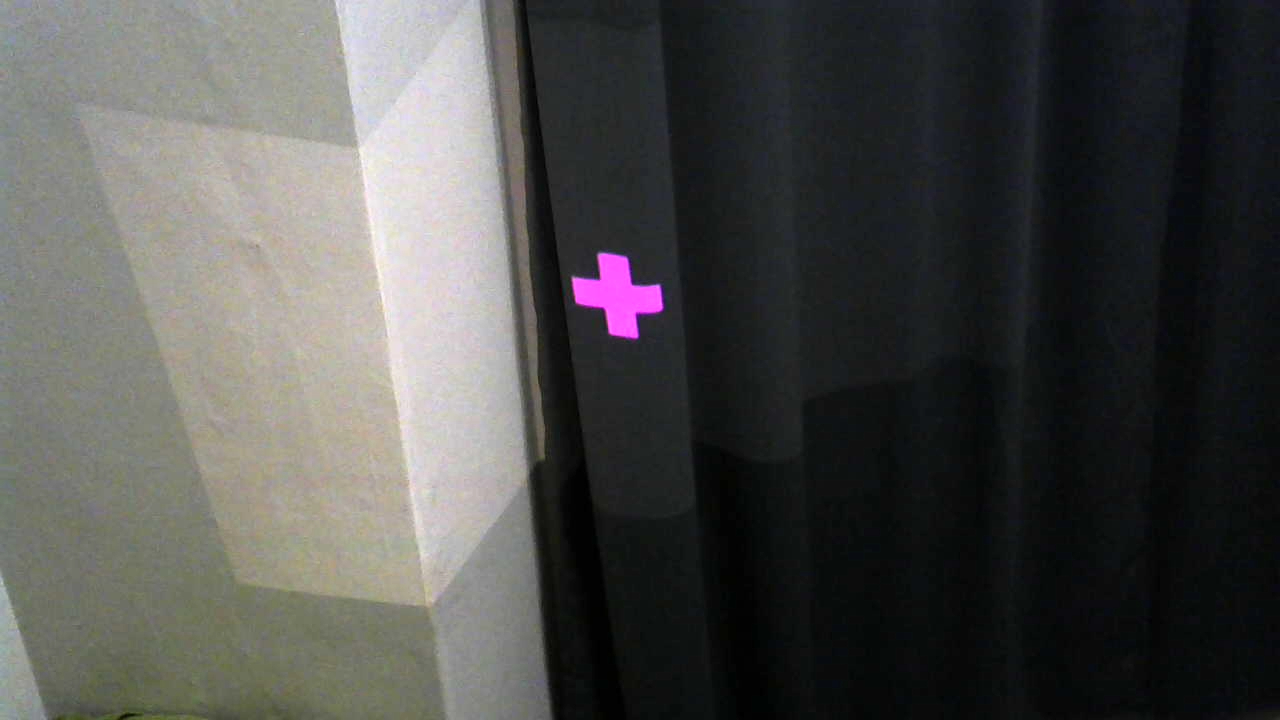calibration_symbol: (570, 251, 664, 339)
